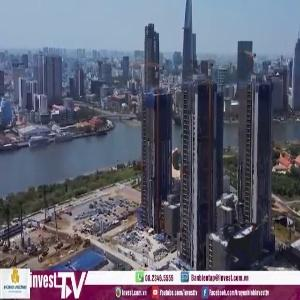drone: (190, 192, 297, 299)
